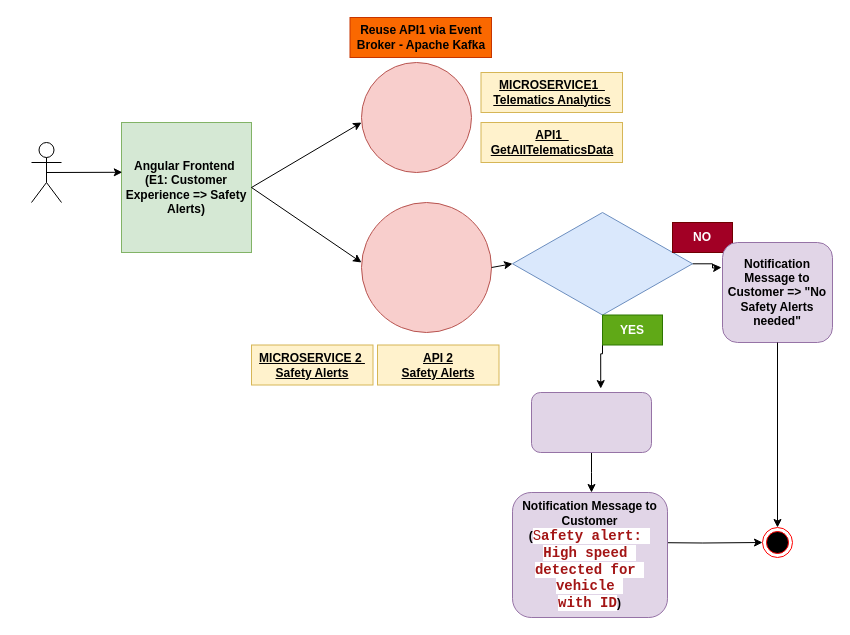
The diagram is 850 pixels wide and 635 high, and some of its shapes have lost their labels. The shapes that lost their labels are listed below. From the top down, each one's centre as x and y in pixels, then its label:
(x=416, y=117): Retrieve and Display available Fleets with Telematics Data
(x=46, y=172): Customers
(x=426, y=267): "Check Safety Alerts" Button for selected Fleet
(x=602, y=263): vehicleTelematics. speed > 100
(x=591, y=422): Generate Real time Safety alerts for the selected Fleet
